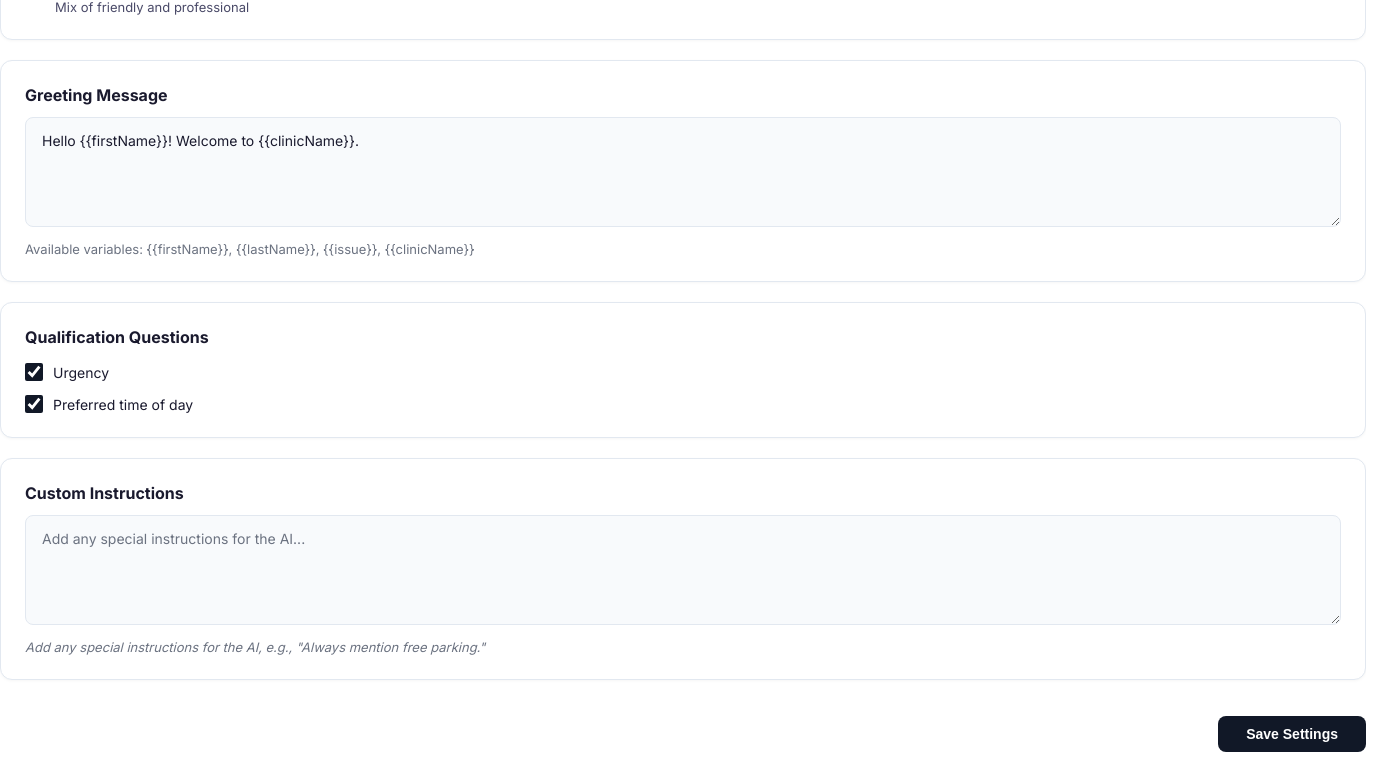
it: AIConfigurationPage – interactions & save › should show success toast after saving settings
(page scrolled)
Click the button "Save Settings" at (1292, 734), box [1218,716,1366,752]
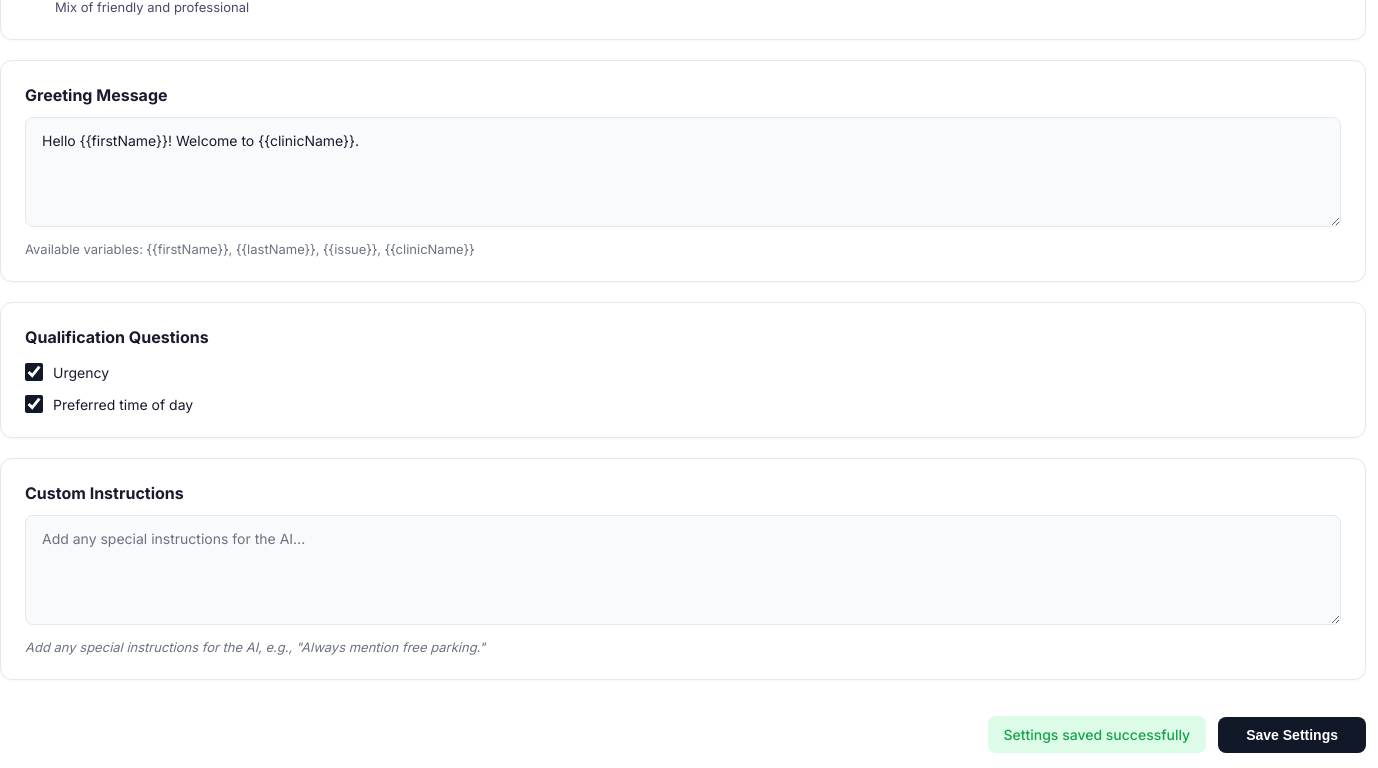
Check: the text "Settings saved successfully" is shown, box [988,716,1206,753]
